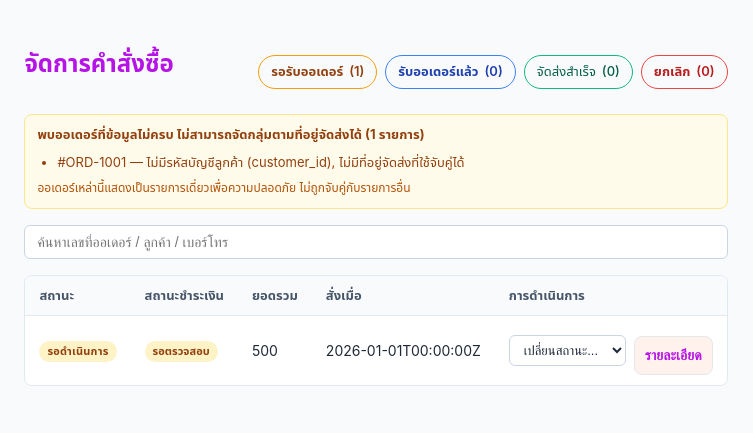
Test case: AdminOrders — inline status change › keeps the row and shows an error when the backend rejects the change
Select "รับออเดอร์" in the dropdown named "เปลี่ยนสถานะคำสั่งซื้อ #ORD-1001" at (567, 350), box left=509, top=335, right=626, bottom=366
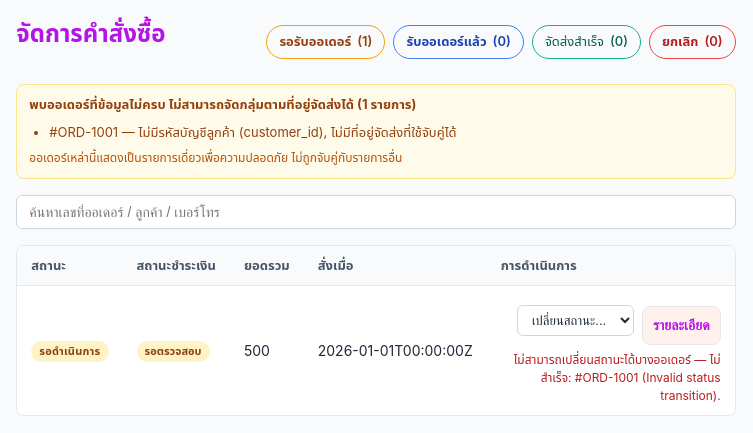
Check: the text "Invalid status transition" is shown, box left=514, top=352, right=721, bottom=403
